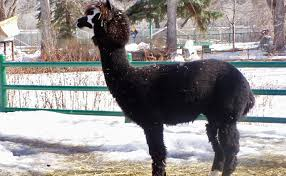alpaca: (75, 1, 255, 175)
